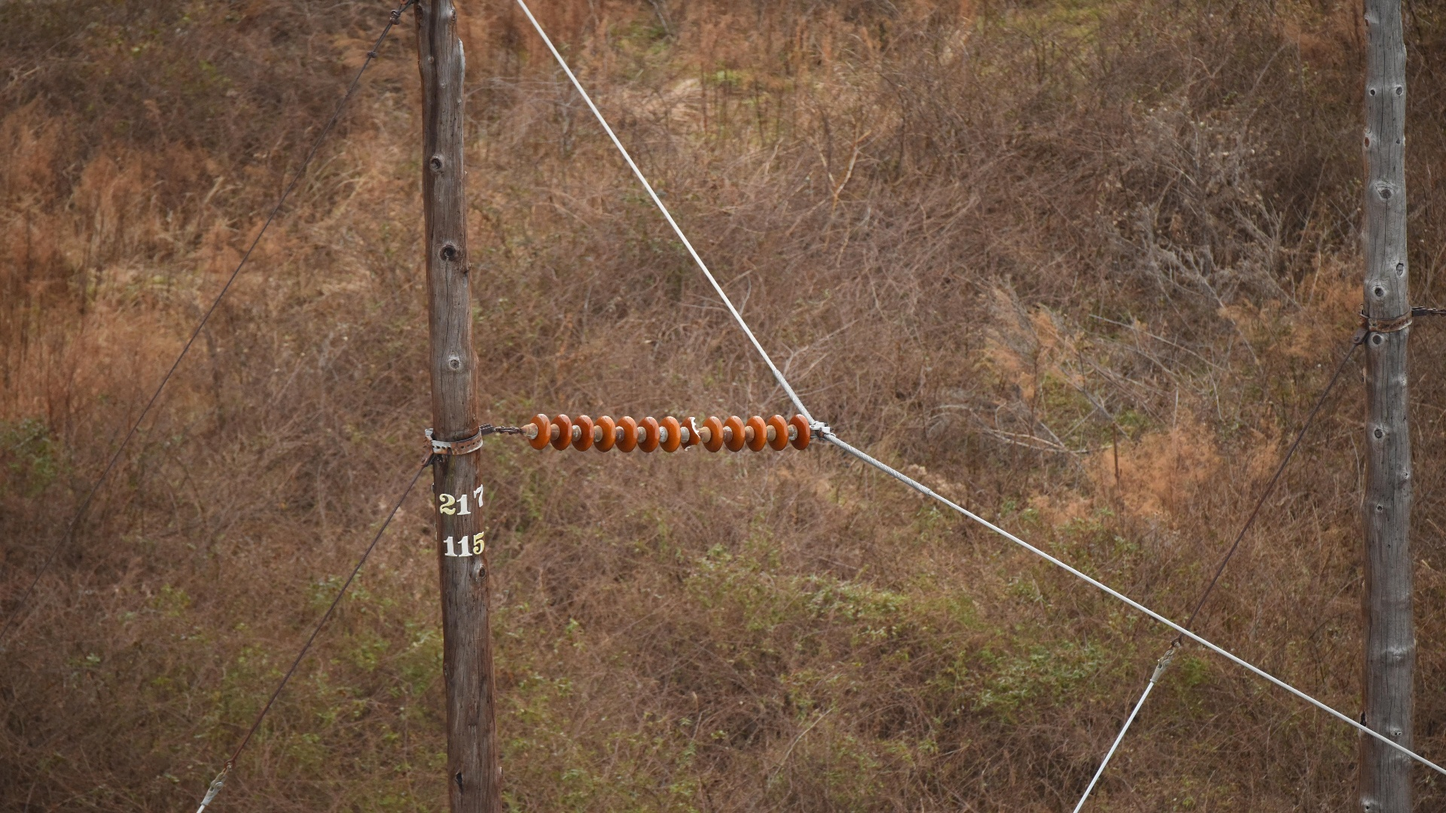insulator: (524, 410, 816, 455)
